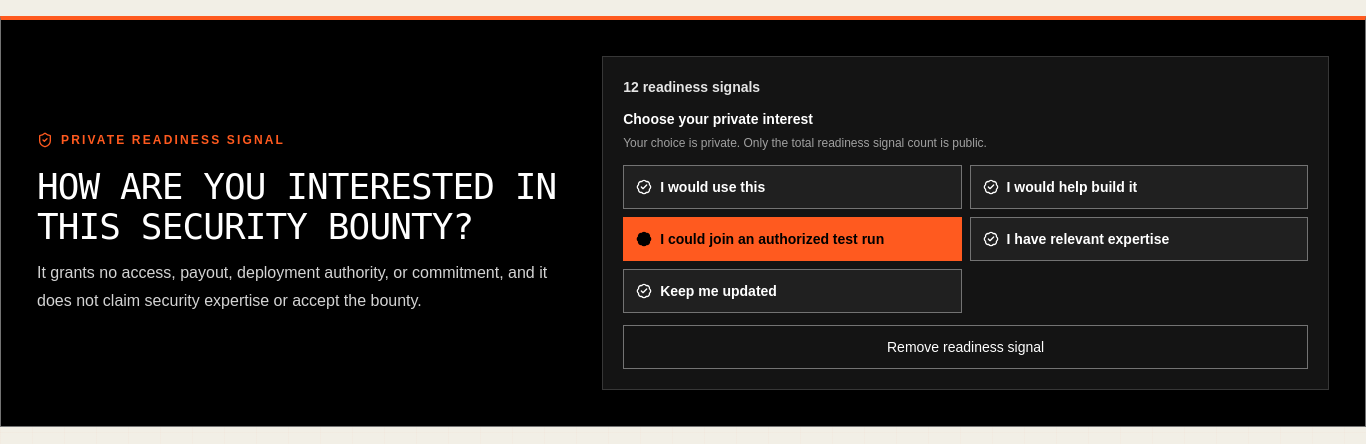
Scenario: IdeaInterestPanel › lets a signed-in member remove their interest
Click the button "Remove readiness signal" at [966, 347], box [623,325,1308,369]
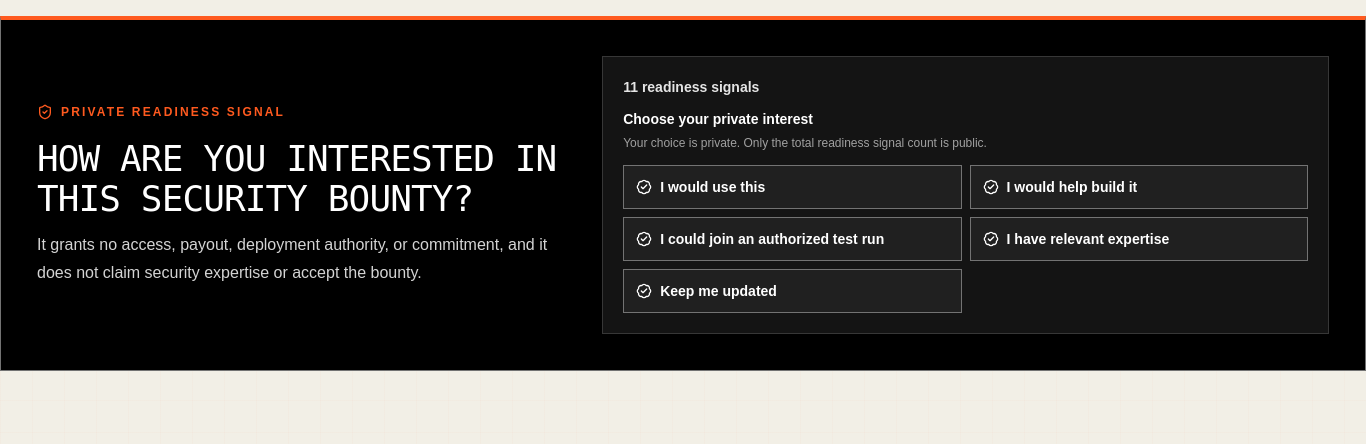
Now the text "11 readiness signals" is shown, box [623,79,759,95]
Now the button "Remove readiness signal" is gone
